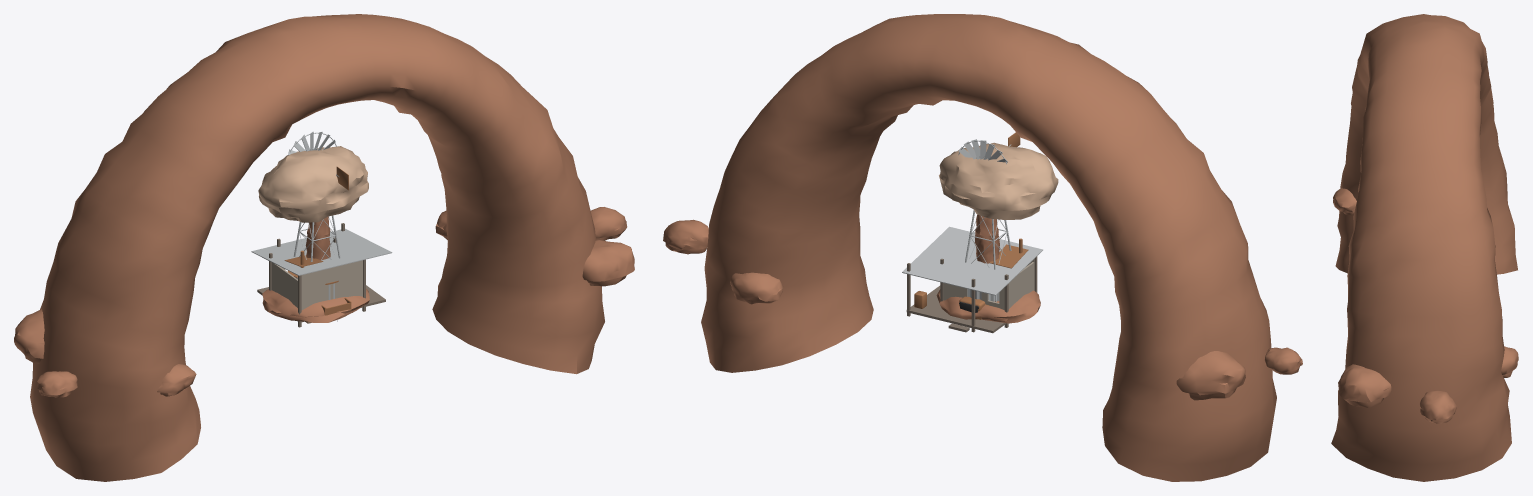
File: DesertLandmarks.fbx
3 renders of one model, left to right at view 1: azimuth 30°, elevation 25°; view 2: azimuth 150°, elevation 25°; view 3: azimuth 270°, elevation 25°, orthographic. The views are drawn at different scales.
Visible parts, largest first — view 1: NeedlesEye, BalancedRock, Shack, Windmill; view 2: NeedlesEye, BalancedRock, Shack, Windmill; view 3: NeedlesEye.
Part boxes in pixels (x1,y1,x2,y2): NeedlesEye: [14, 14, 634, 481]; BalancedRock: [258, 146, 369, 322]; Shack: [251, 223, 392, 327]; Windmill: [293, 166, 352, 323]; NeedlesEye: [663, 14, 1302, 481]; BalancedRock: [936, 142, 1058, 323]; Shack: [902, 226, 1042, 333]; Windmill: [965, 132, 1020, 301]; NeedlesEye: [1331, 14, 1518, 481].
Bounding box in the file's own units: 41.72 × 24.72 × 12.63.
